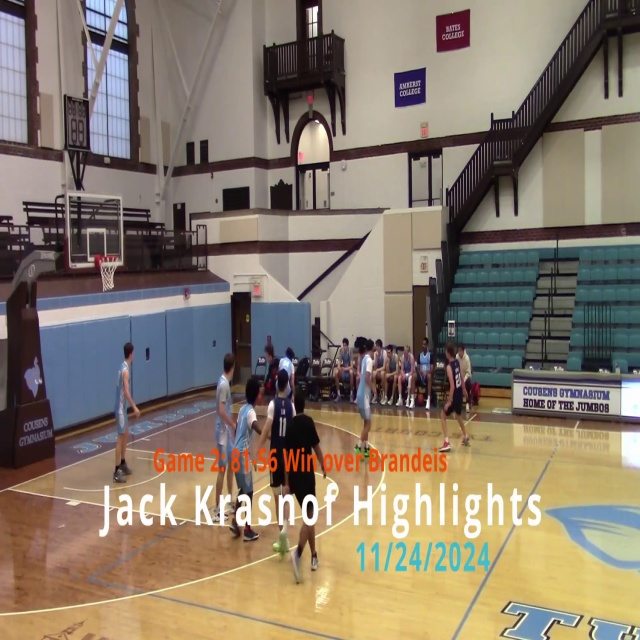Basketball: (272, 533, 289, 555), (272, 541, 283, 553), (272, 541, 282, 553)
